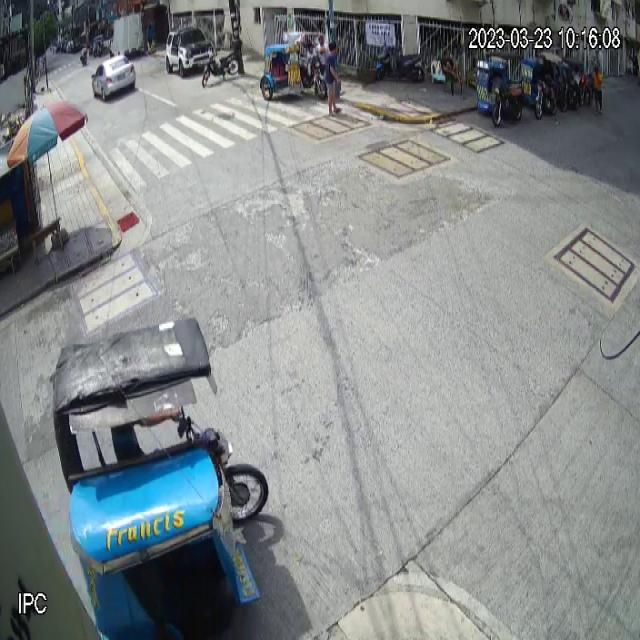Tricycle: (53, 314, 270, 640), (260, 28, 328, 102), (476, 51, 525, 128)
